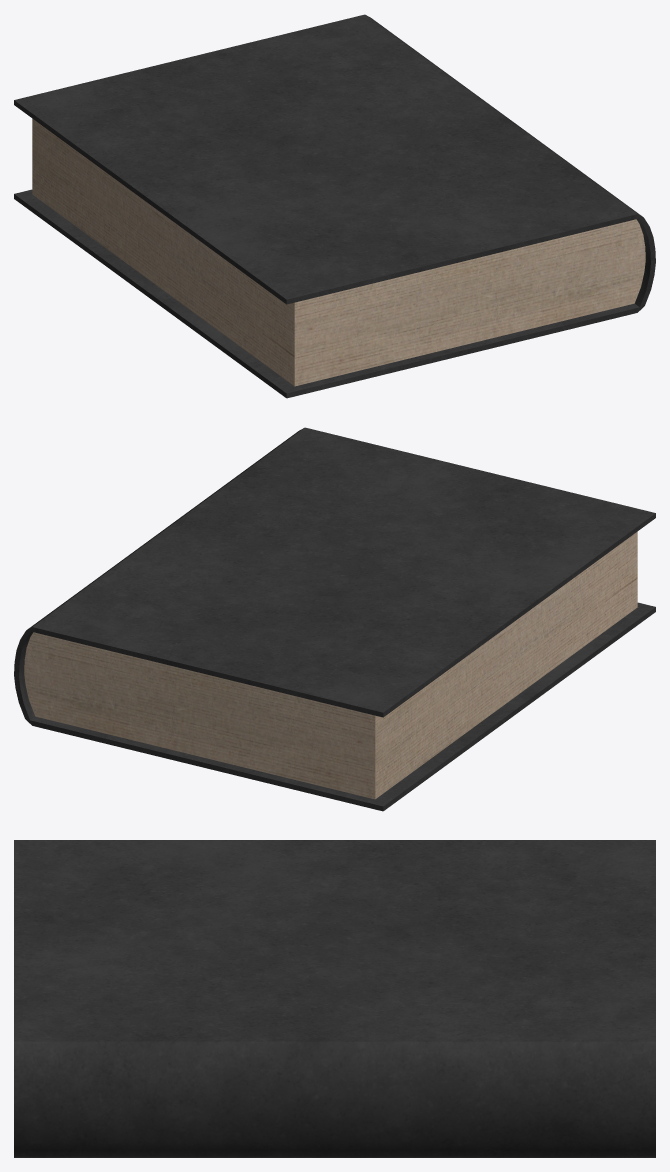
Rendered from Book.fbx.
The picture shows the model from 3 angles, top to bottom: view 1: azimuth 30°, elevation 25°; view 2: azimuth 150°, elevation 25°; view 3: azimuth 270°, elevation 25°; orthographic projection. The views are drawn at different scales.
Visible parts, largest first — view 1: pCube70; view 2: pCube70; view 3: pCube70.
Part boxes in pixels (x1=…): pCube70: x1=14, y1=14, x2=655, y2=398; pCube70: x1=14, y1=427, x2=655, y2=811; pCube70: x1=14, y1=840, x2=655, y2=1157.
Bounding box in the file's own units: 49.32 × 12.61 × 63.07.
